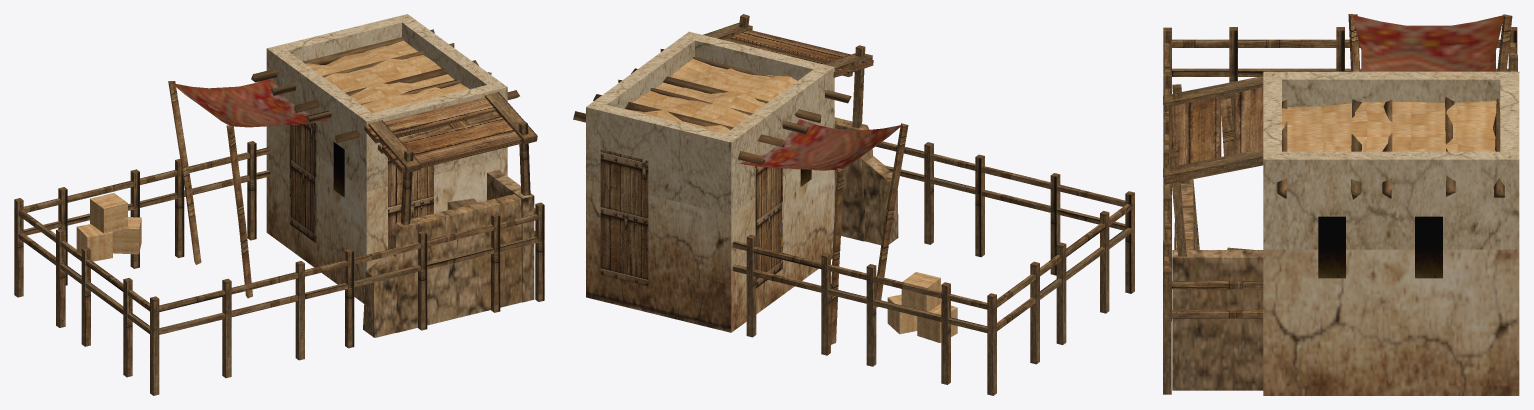
Rendered from corral.dae.
3 renders of one model, left to right at view 1: azimuth 30°, elevation 25°; view 2: azimuth 150°, elevation 25°; view 3: azimuth 270°, elevation 25°, orthographic. The views are drawn at different scales.
Parts seen in each view (by area): view 1: corral; view 2: corral; view 3: corral.
Part boxes in pixels (left/top/right/bottom): corral: left=14, top=14, right=544, bottom=395; corral: left=573, top=14, right=1134, bottom=395; corral: left=1163, top=14, right=1519, bottom=395.
Size of the model in its own units: 17.94 by 10.5 by 7.66.
